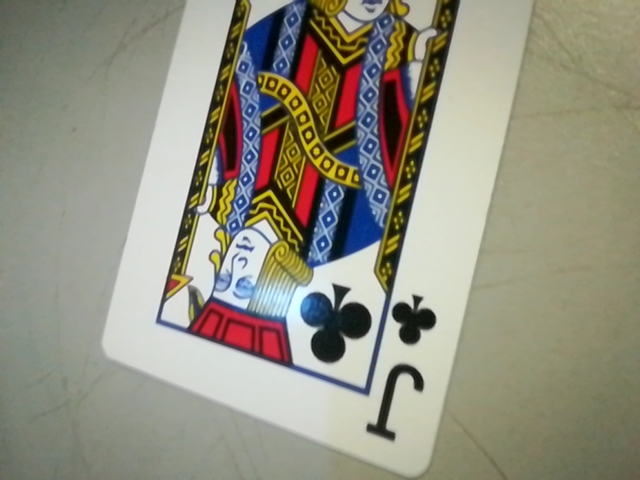mh j: (364, 289, 447, 451)
